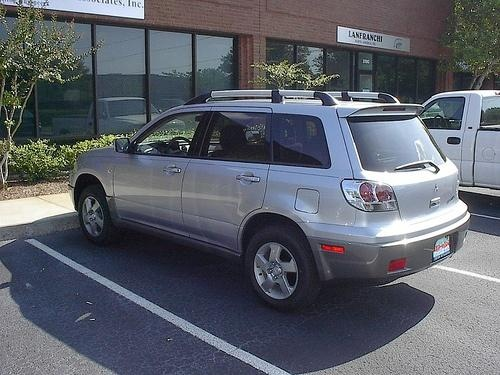car: (73, 89, 472, 313), (414, 91, 500, 191), (48, 96, 163, 142), (8, 109, 43, 138)
